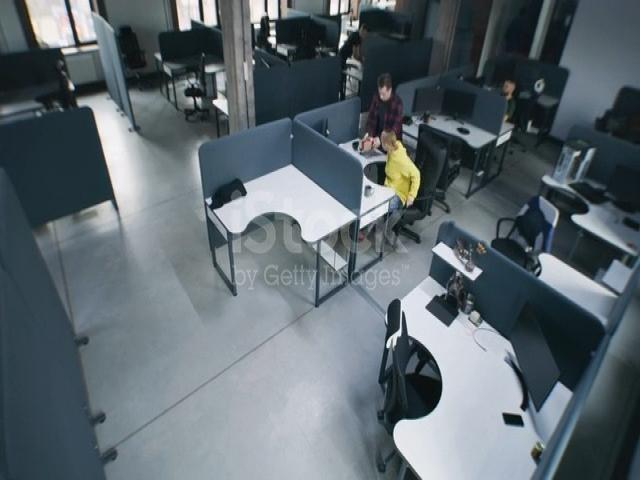EMPTY_CHAIR: (374, 279, 444, 456), (474, 184, 564, 270), (109, 0, 156, 107), (36, 29, 84, 115), (439, 132, 472, 234), (177, 51, 210, 145), (337, 48, 368, 104)
PERSON_IN_CHAIR: (368, 123, 436, 255), (477, 55, 543, 166), (594, 82, 639, 134)
